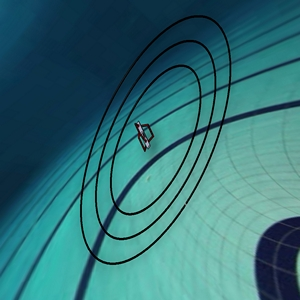circle: (72, 10, 261, 275)
submarine: (119, 100, 169, 160)
